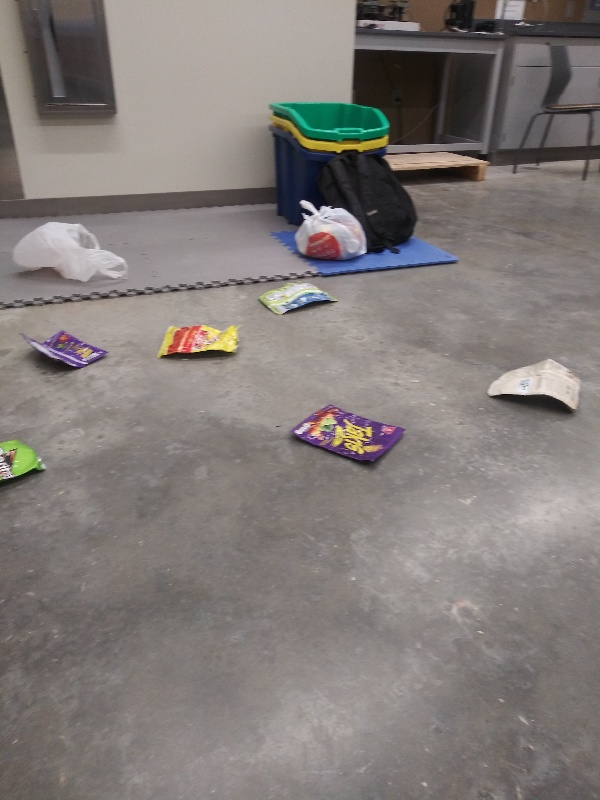bag: (285, 401, 408, 473), (482, 354, 586, 419), (12, 325, 111, 372), (153, 319, 243, 362), (254, 279, 341, 318), (1, 433, 53, 486)
